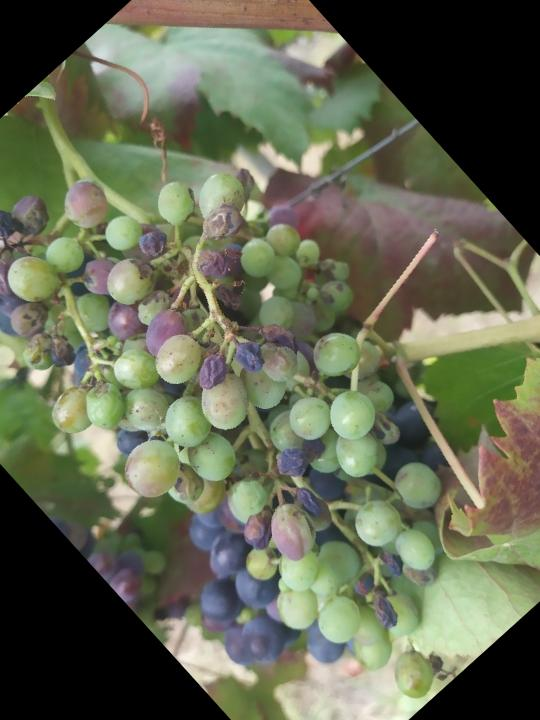grape: (0, 56, 540, 720)
